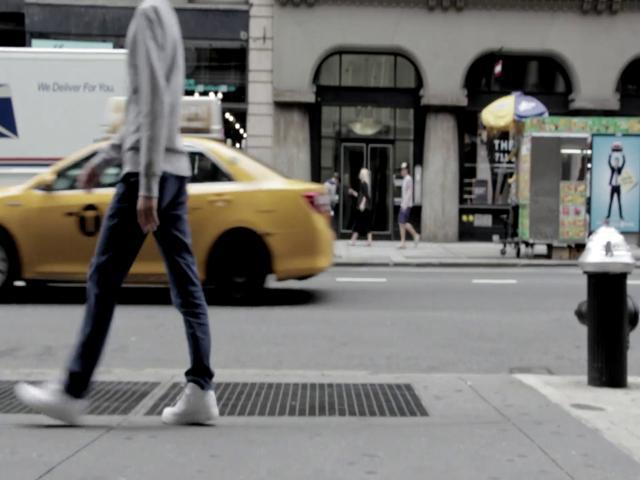shoe: (16, 381, 89, 427), (162, 384, 219, 425)
